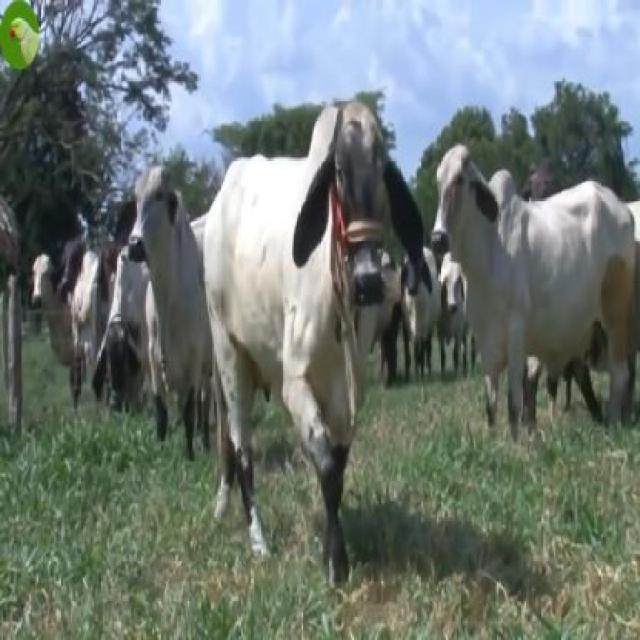Cow: (203, 99, 425, 566), (429, 145, 634, 443), (123, 163, 209, 435)
